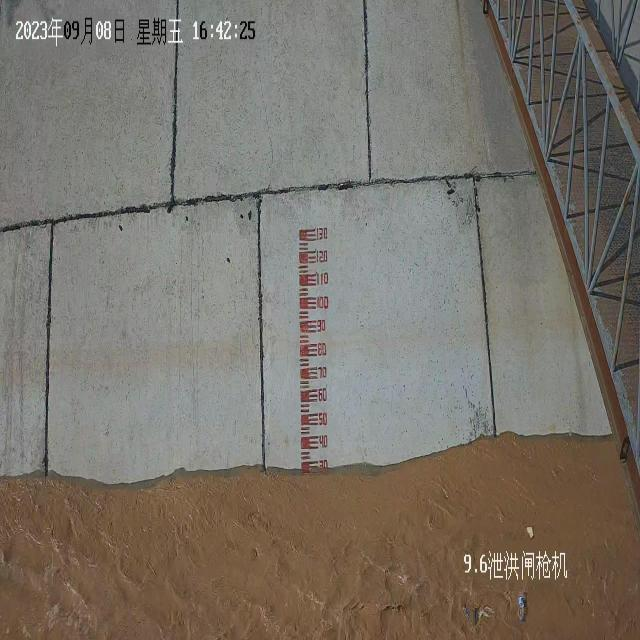ruler: (295, 220, 332, 477)
value: (315, 224, 329, 243), (316, 293, 330, 312), (315, 247, 329, 265), (316, 340, 329, 358), (316, 270, 329, 287), (317, 385, 328, 404), (318, 432, 329, 451), (316, 364, 328, 381), (316, 316, 327, 334), (318, 411, 329, 428), (319, 457, 329, 475)
